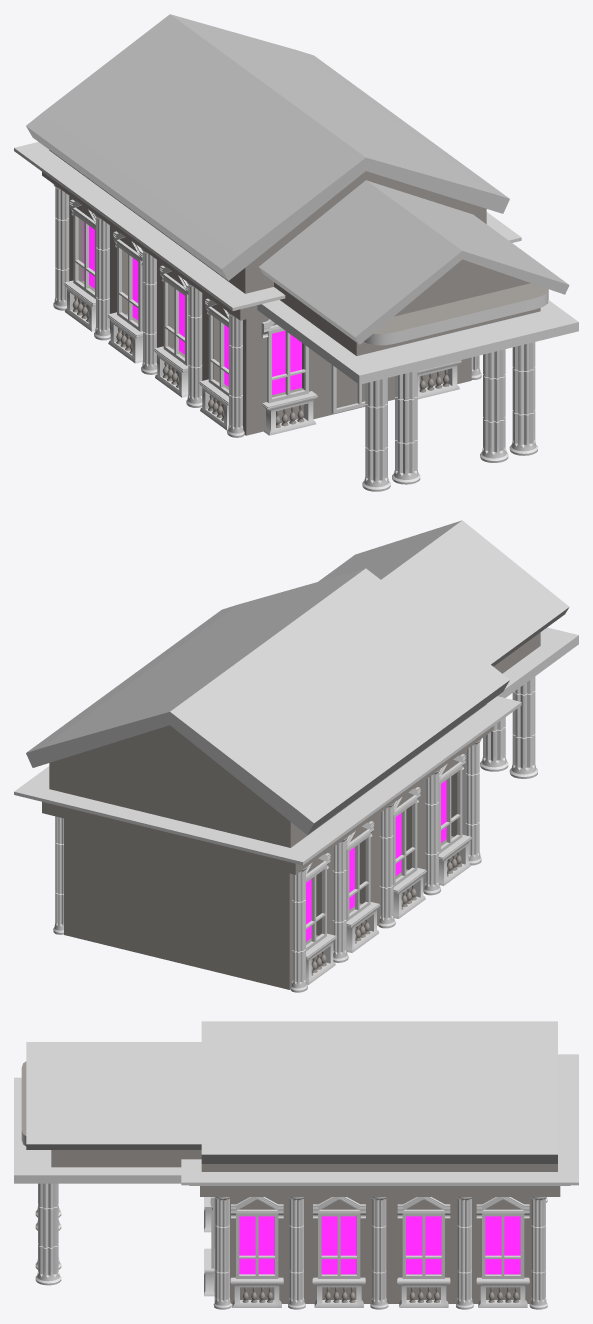
File: museumdpink.fbx
3 renders of one model, top to bottom at view 1: azimuth 30°, elevation 25°; view 2: azimuth 150°, elevation 25°; view 3: azimuth 270°, elevation 25°, orthographic. The views are drawn at different scales.
Parts seen in each view (by area): view 1: Museum body.002; view 2: Museum body.002; view 3: Museum body.002.
Part boxes in pixels (x1,y1,x2,y2): Museum body.002: (14, 14, 578, 491); Museum body.002: (14, 520, 578, 992); Museum body.002: (14, 1021, 578, 1309).
Size of the model in its own units: 460 by 389 by 856.
